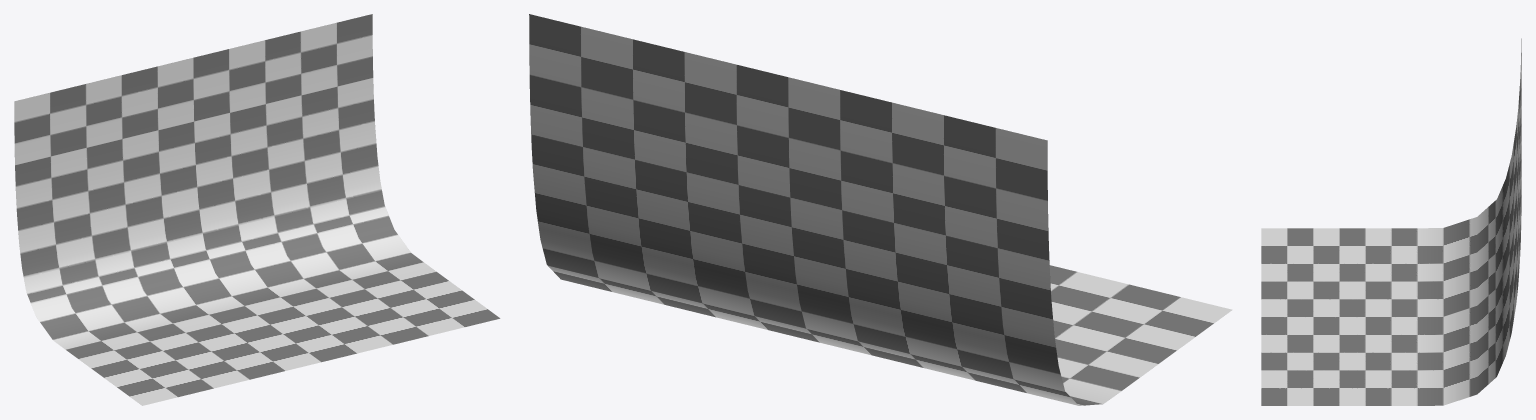
File: plane_curved.glb
The picture shows the model from 3 angles, left to right: view 1: azimuth 30°, elevation 25°; view 2: azimuth 150°, elevation 25°; view 3: azimuth 270°, elevation 25°; orthographic projection. The views are drawn at different scales.
Visible parts, largest first — view 1: NurbsPath.001; view 2: NurbsPath.001; view 3: NurbsPath.001.
Boxes of the visible parts, bbox=[...] form: NurbsPath.001: bbox=[14, 14, 500, 405]; NurbsPath.001: bbox=[529, 14, 1232, 405]; NurbsPath.001: bbox=[1261, 38, 1521, 405].
Bounding box in the file's own units: 6.04 × 3.4 × 3.74.
1 material, 1 textured.
